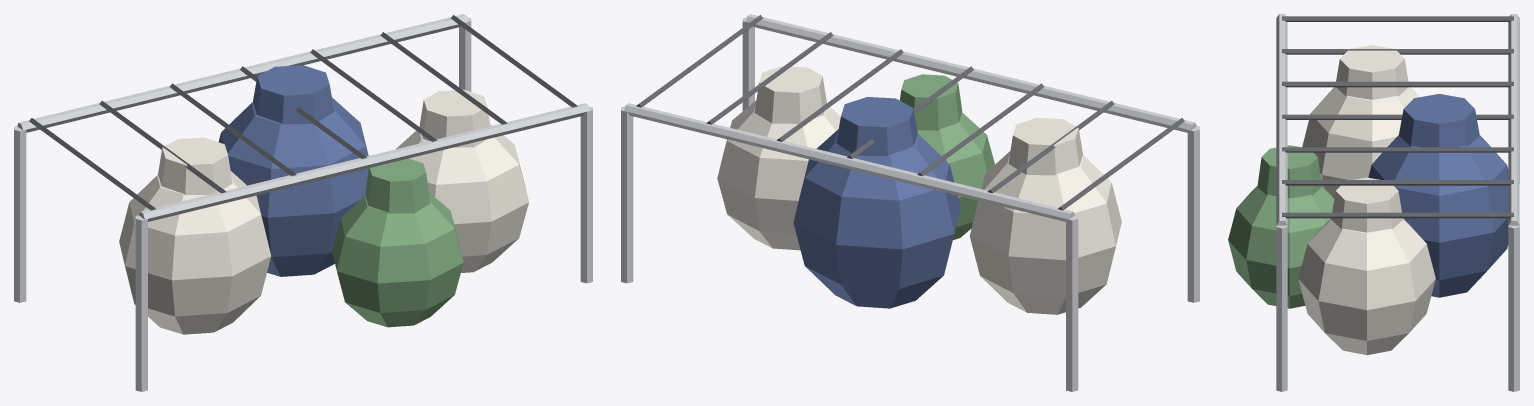
Rendered from sorted_recycling_bags.glb.
The picture shows the model from 3 angles, left to right: view 1: azimuth 30°, elevation 25°; view 2: azimuth 150°, elevation 25°; view 3: azimuth 270°, elevation 25°; orthographic projection. The views are drawn at different scales.
Parts seen in each view (by area): view 1: sorted-recycling-bags-cream, sorted-recycling-bags-indigo, sorted-recycling-bags-steel, sorted-recycling-bags-leaf, sorted-recycling-bags-charcoal; view 2: sorted-recycling-bags-cream, sorted-recycling-bags-indigo, sorted-recycling-bags-steel, sorted-recycling-bags-leaf, sorted-recycling-bags-charcoal; view 3: sorted-recycling-bags-cream, sorted-recycling-bags-indigo, sorted-recycling-bags-charcoal, sorted-recycling-bags-leaf, sorted-recycling-bags-steel.
Part boxes in pixels (x1=…): sorted-recycling-bags-cream: x1=119, y1=89, x2=528, y2=334; sorted-recycling-bags-indigo: x1=218, y1=65, x2=368, y2=276; sorted-recycling-bags-steel: x1=14, y1=14, x2=592, y2=391; sorted-recycling-bags-leaf: x1=332, y1=158, x2=463, y2=327; sorted-recycling-bags-charcoal: x1=29, y1=15, x2=577, y2=210; sorted-recycling-bags-cream: x1=717, y1=66, x2=1121, y2=314; sorted-recycling-bags-indigo: x1=793, y1=97, x2=960, y2=308; sorted-recycling-bags-steel: x1=621, y1=14, x2=1199, y2=391; sorted-recycling-bags-leaf: x1=900, y1=74, x2=994, y2=239; sorted-recycling-bags-charcoal: x1=636, y1=15, x2=1184, y2=210; sorted-recycling-bags-cream: x1=1298, y1=45, x2=1435, y2=355; sorted-recycling-bags-indigo: x1=1368, y1=94, x2=1508, y2=297; sorted-recycling-bags-charcoal: x1=1282, y1=16, x2=1513, y2=218; sorted-recycling-bags-leaf: x1=1228, y1=145, x2=1334, y2=308; sorted-recycling-bags-steel: x1=1276, y1=14, x2=1519, y2=391.
Bounding box in the file's own units: 1.95 × 0.7792 × 1.13.
